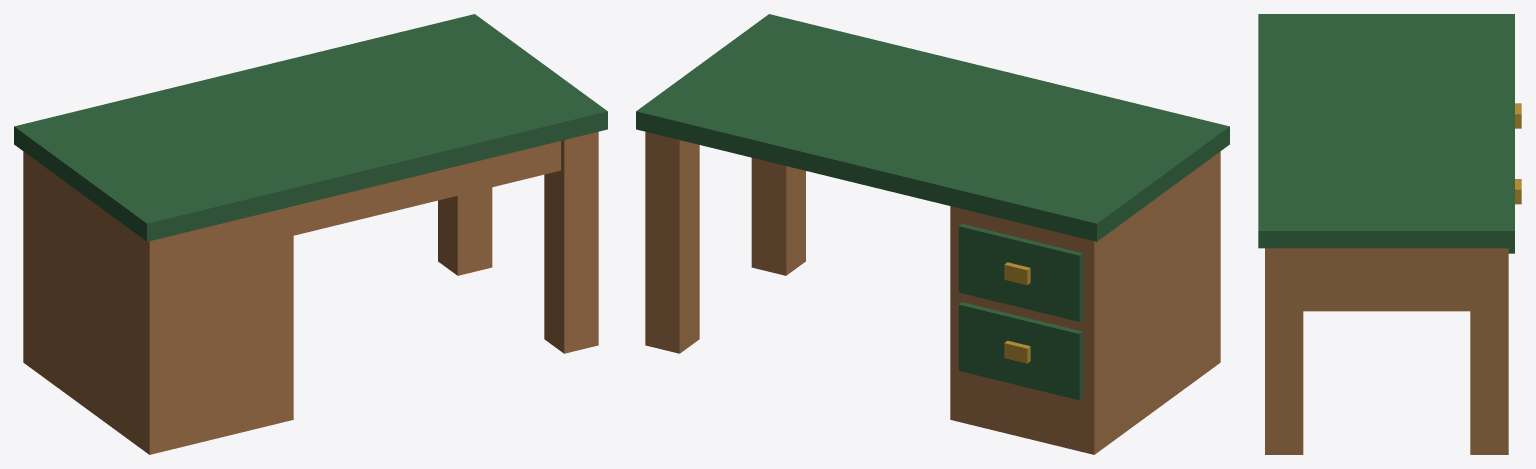
File: ncb-desk-school.glb
3 renders of one model, left to right at view 1: azimuth 30°, elevation 25°; view 2: azimuth 150°, elevation 25°; view 3: azimuth 270°, elevation 25°, orthographic. The views are drawn at different scales.
Visible parts, largest first — view 1: box-prop; view 2: box-prop; view 3: box-prop.
Part boxes in pixels (box(x1,y1,x2,y2)): box-prop: box(14, 14, 607, 454); box-prop: box(636, 14, 1229, 454); box-prop: box(1258, 14, 1521, 454).
Size of the model in its own units: 1.6 by 0.78 by 0.82.
